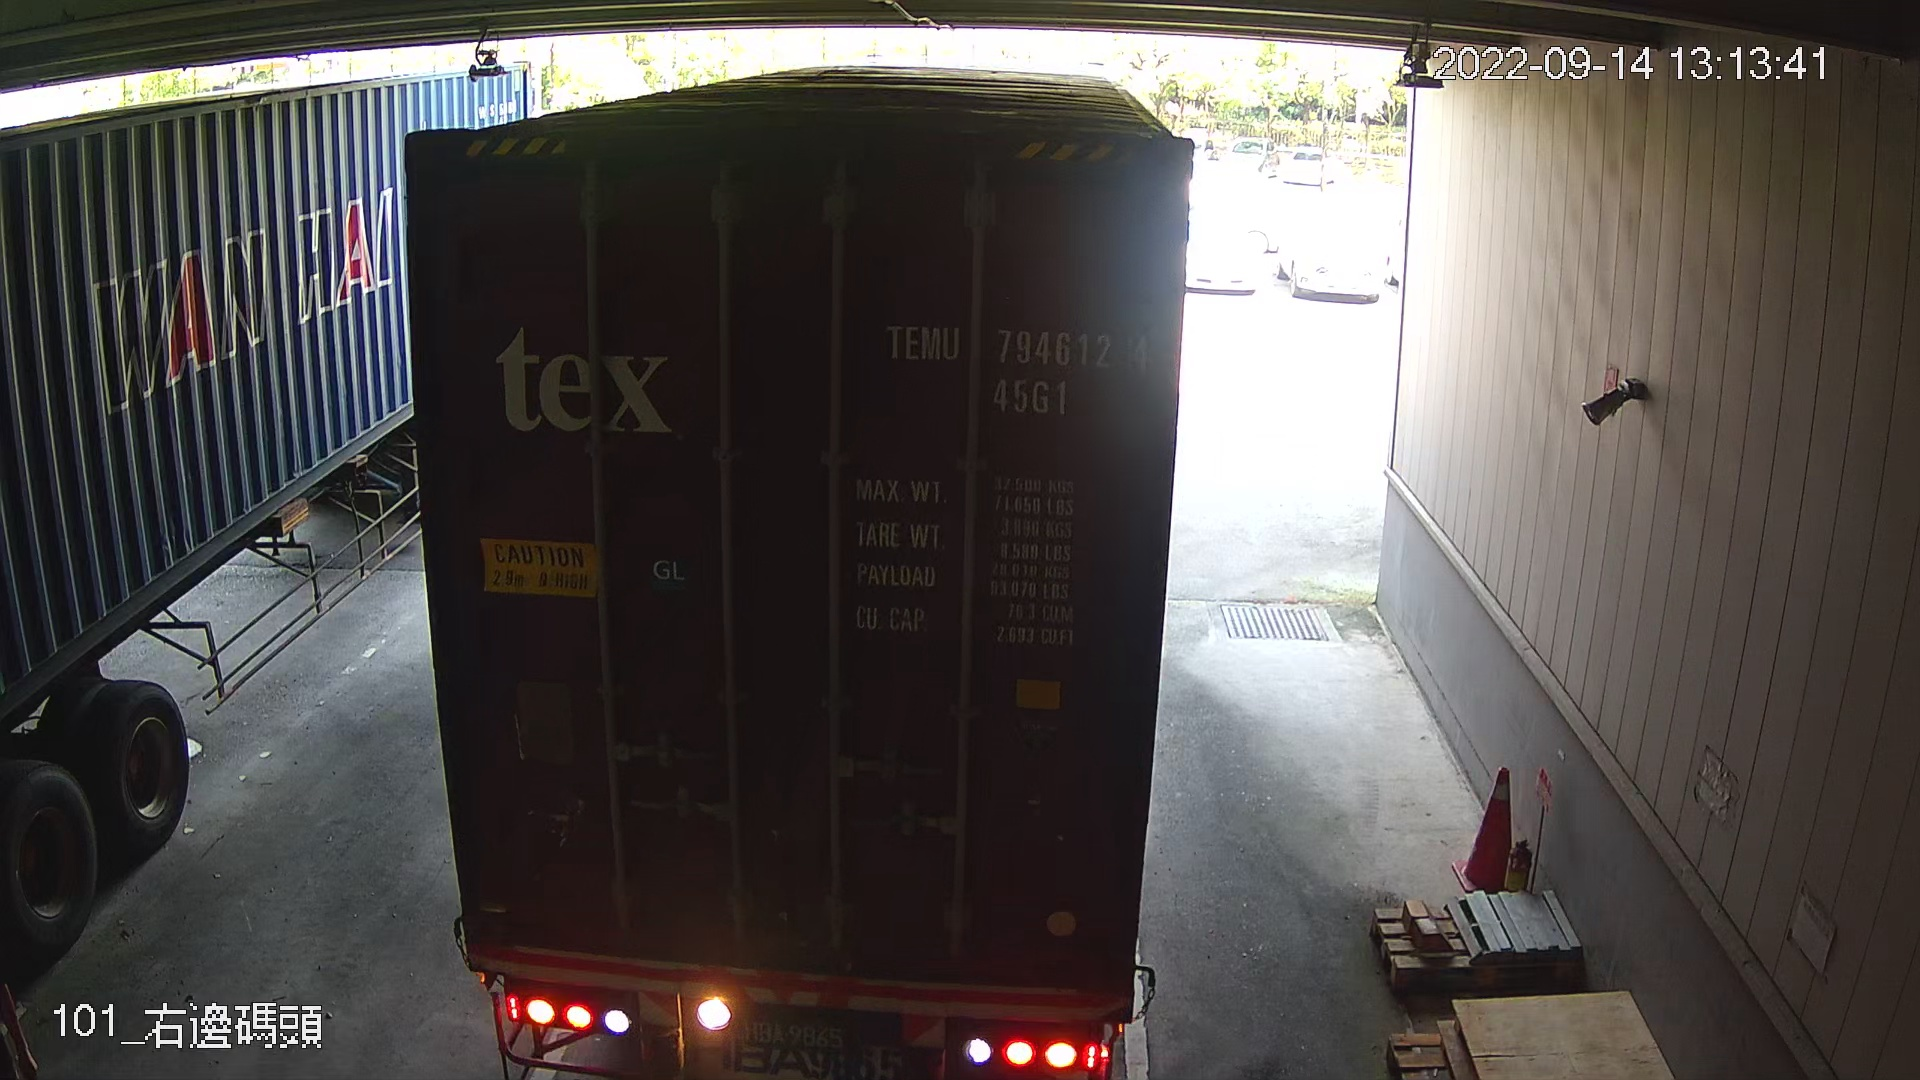container: (876, 307, 1160, 429)
